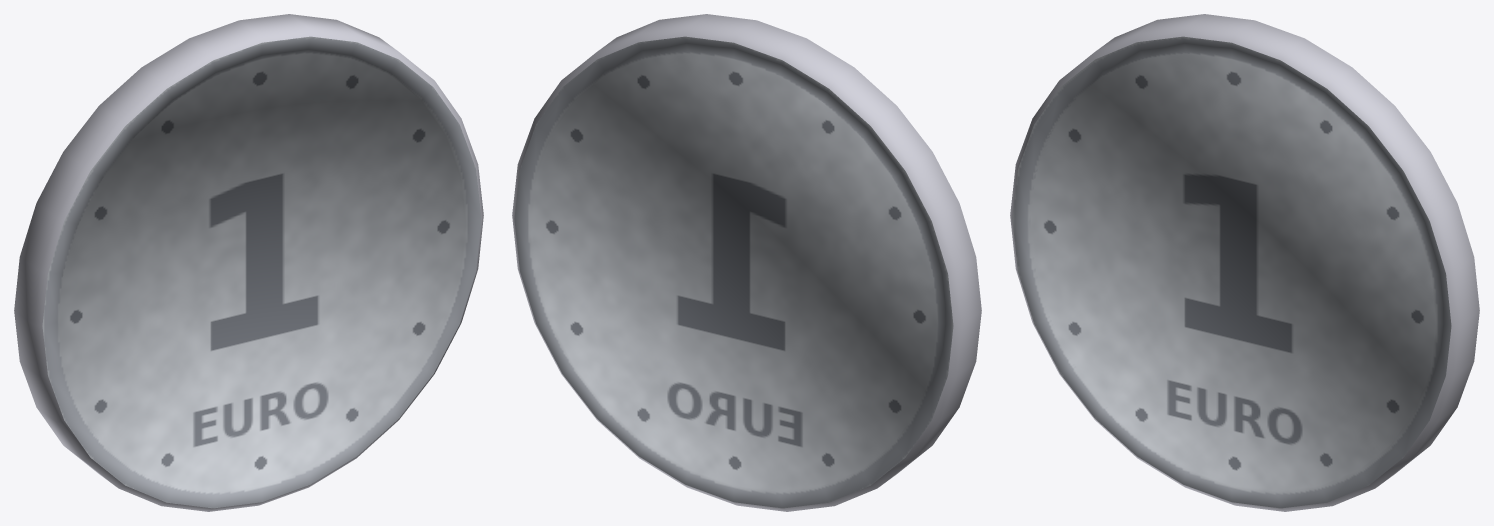
The model's file is Coin_1EUR.obj.
3 views of the same model, side by side, from view 1: azimuth 30°, elevation 25°; view 2: azimuth 150°, elevation 25°; view 3: azimuth 330°, elevation 25° (orthographic).
Bounding box in the file's own units: 0.0233 × 0.0233 × 0.00233.
Materials: 2 (1 with a texture image).
